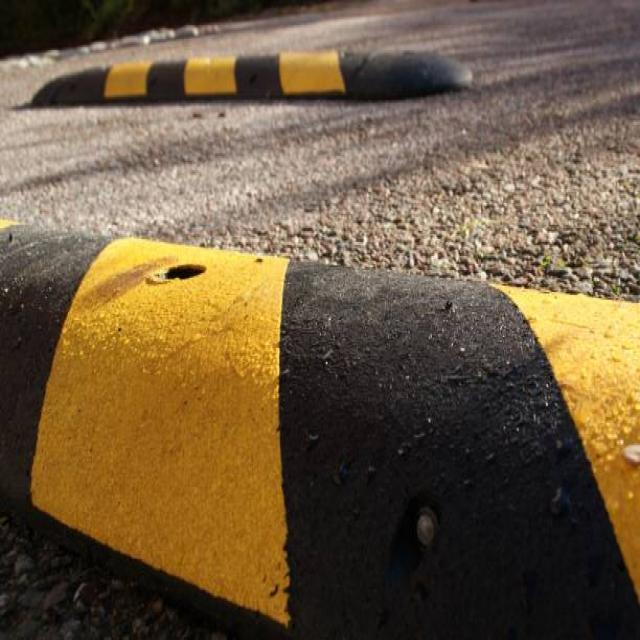speedbreaker: (1, 215, 640, 635), (24, 44, 474, 112)
